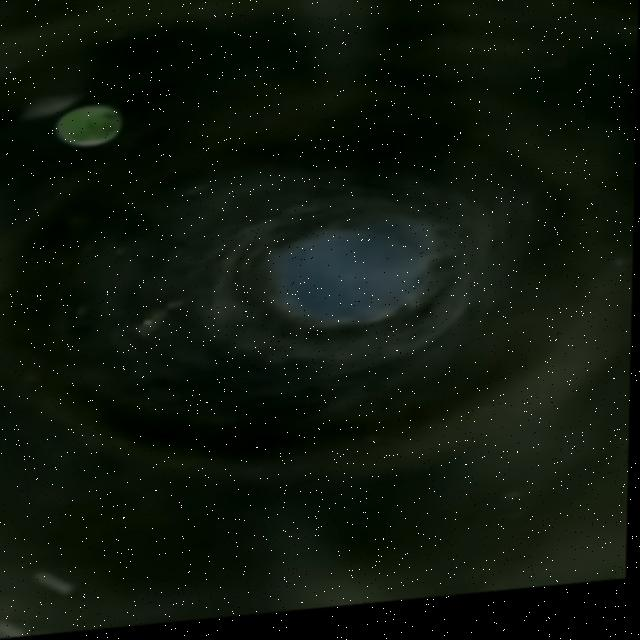balloon: (51, 104, 124, 147)
